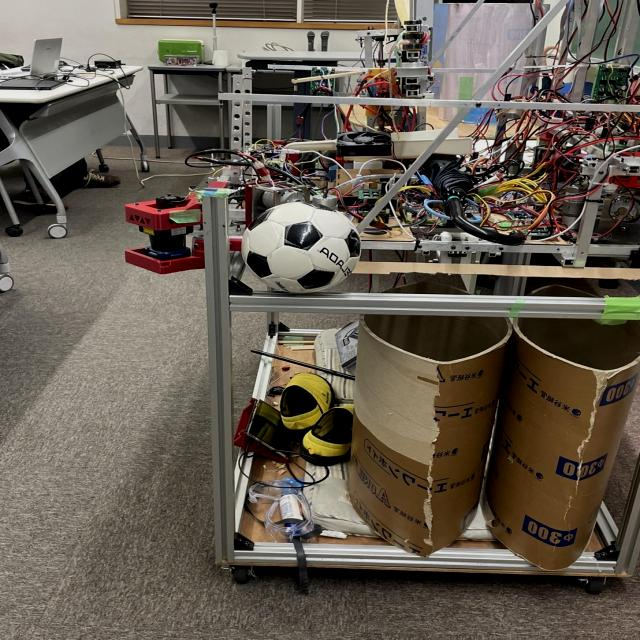Soccer Ball: (241, 203, 360, 296)
